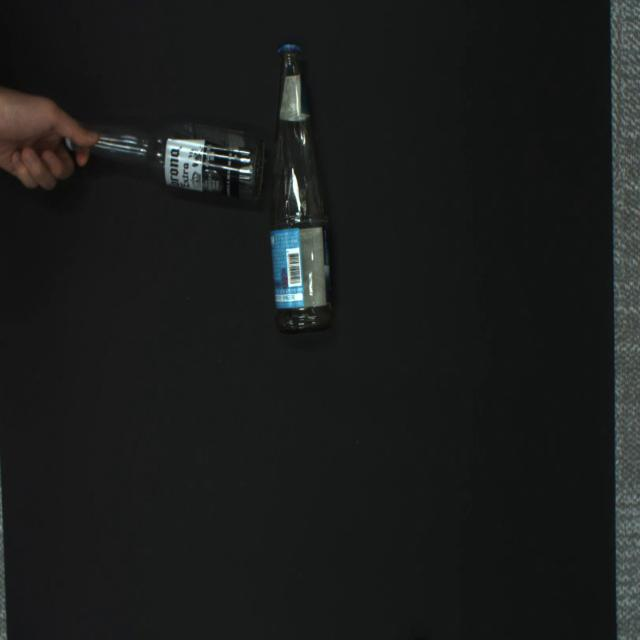beer-bottle: (268, 43, 332, 332), (78, 121, 266, 201)
